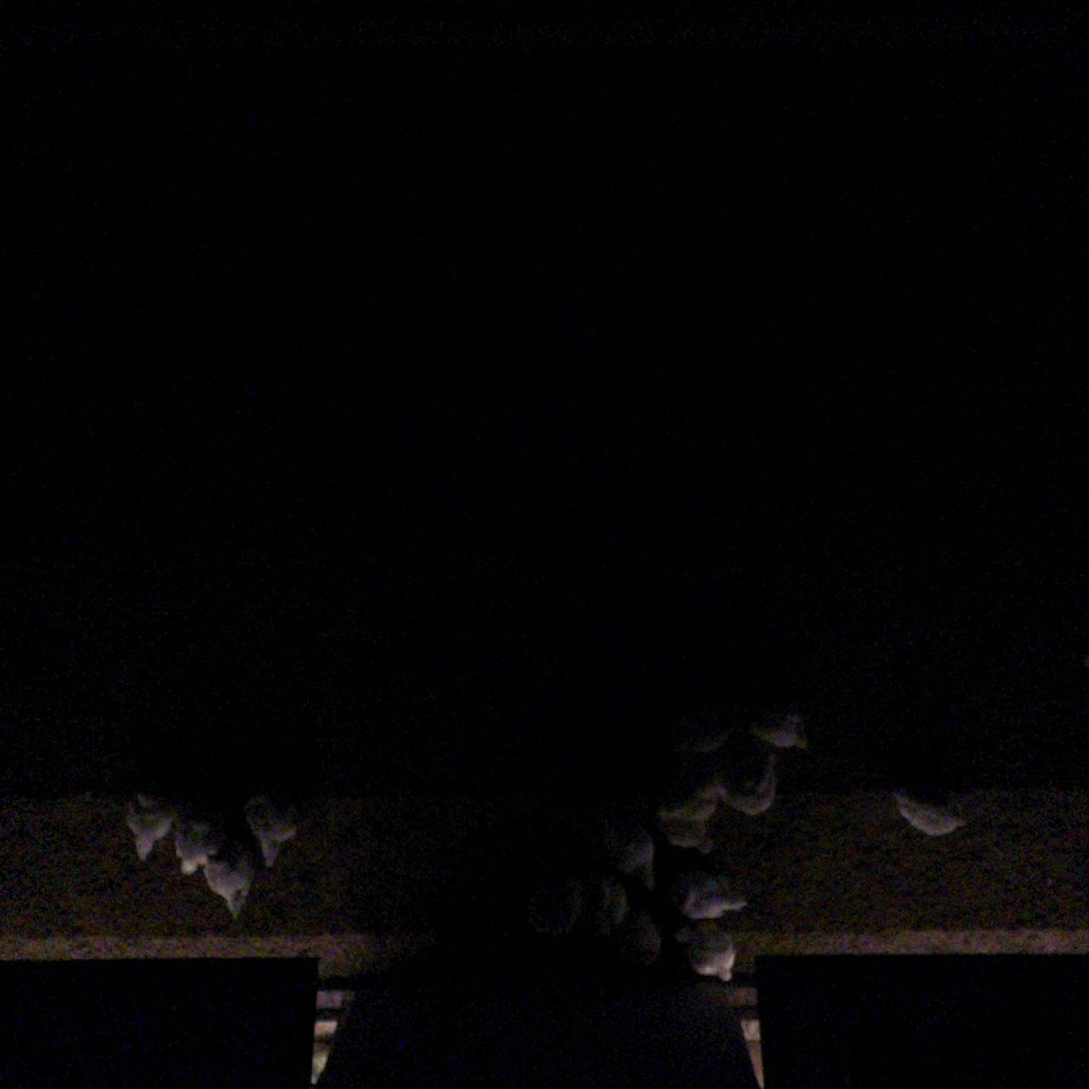chicken: (690, 741, 784, 818), (886, 769, 971, 839), (200, 831, 263, 924), (233, 788, 300, 875), (664, 862, 753, 924), (597, 810, 659, 898), (118, 779, 181, 863), (660, 691, 736, 760), (669, 914, 741, 984), (167, 805, 226, 884), (522, 873, 589, 942), (746, 690, 813, 754), (655, 767, 724, 829), (611, 909, 667, 976), (582, 874, 630, 942), (665, 811, 716, 861)
